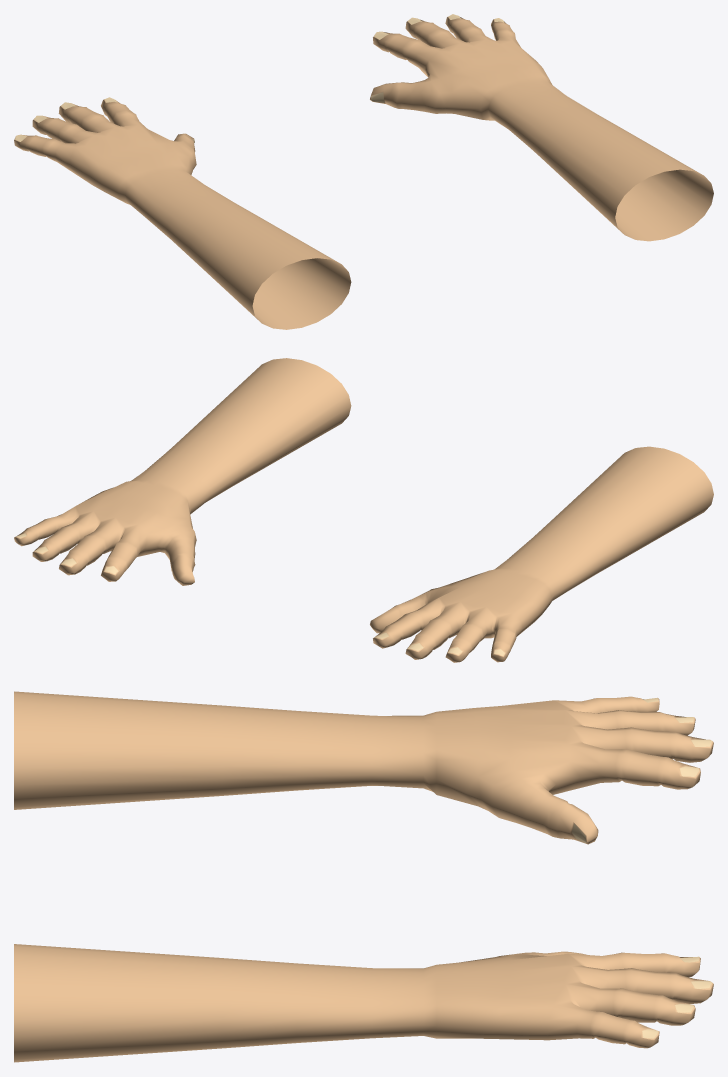
Rendered from Hands.fbx.
The picture shows the model from 3 angles, top to bottom: view 1: azimuth 30°, elevation 25°; view 2: azimuth 150°, elevation 25°; view 3: azimuth 270°, elevation 25°; orthographic projection. The views are drawn at different scales.
Visible parts, largest first — view 1: RHand, LHand; view 2: RHand, LHand; view 3: LHand, RHand.
Part boxes in pixels (x1,y1,x2,y2): RHand: [370, 14, 713, 241]; LHand: [14, 97, 351, 329]; RHand: [14, 358, 351, 585]; LHand: [370, 446, 713, 662]; LHand: [14, 691, 713, 844]; RHand: [14, 944, 713, 1062].
Bounding box in the file's own units: 27.05 × 3.57 × 23.46.
